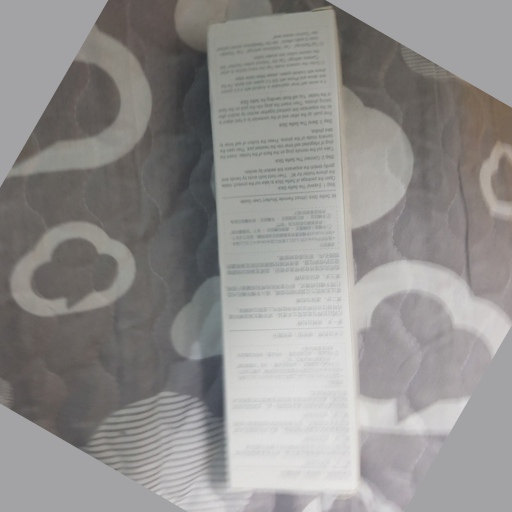Paper_0: (200, 6, 371, 505)
